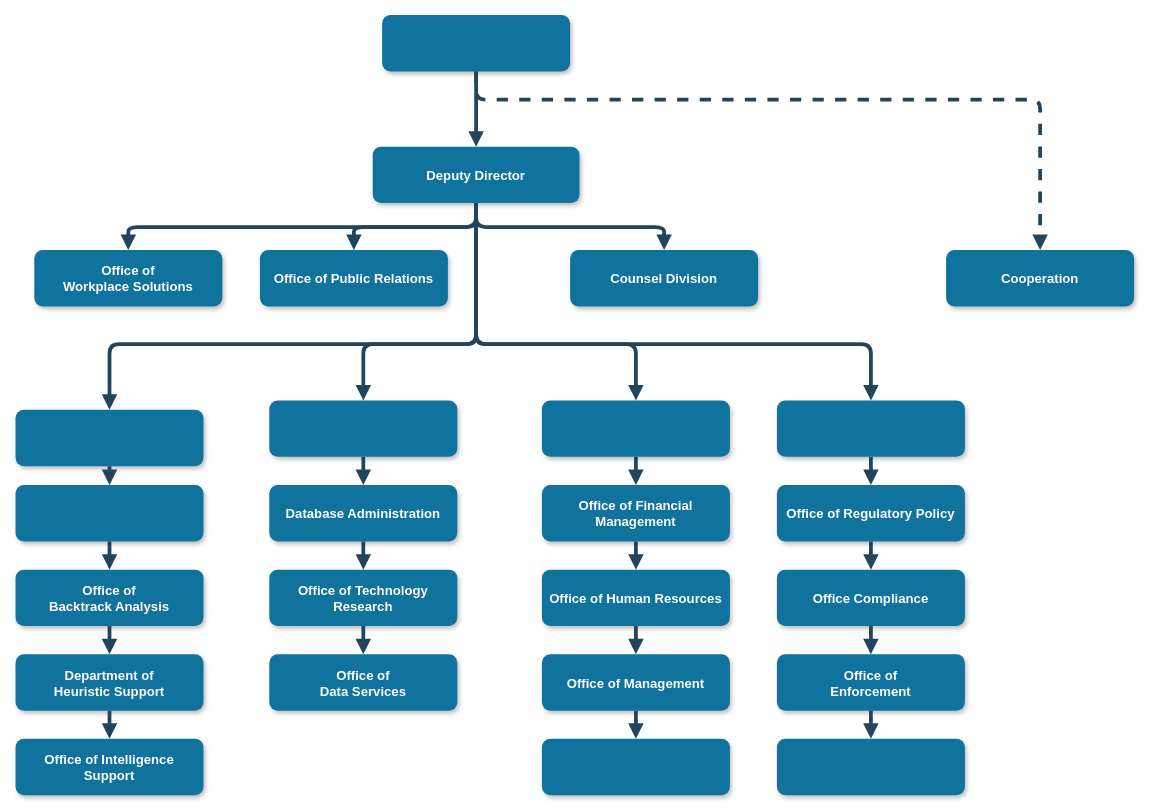
Image size: 1150x810. Some labels were removed from this diagram. Here are the shapes that lost their labels. From the top down, the centre of each, then its label:
point 476,44: main
point 110,439: Analysis Division
point 363,429: IT Division
point 636,429: Management Programs Division
point 871,429: Regulatory and Enforcement Division
point 110,514: Office of Global Support
point 636,768: Office of Training Services
point 871,768: Office of Regulatory Support
